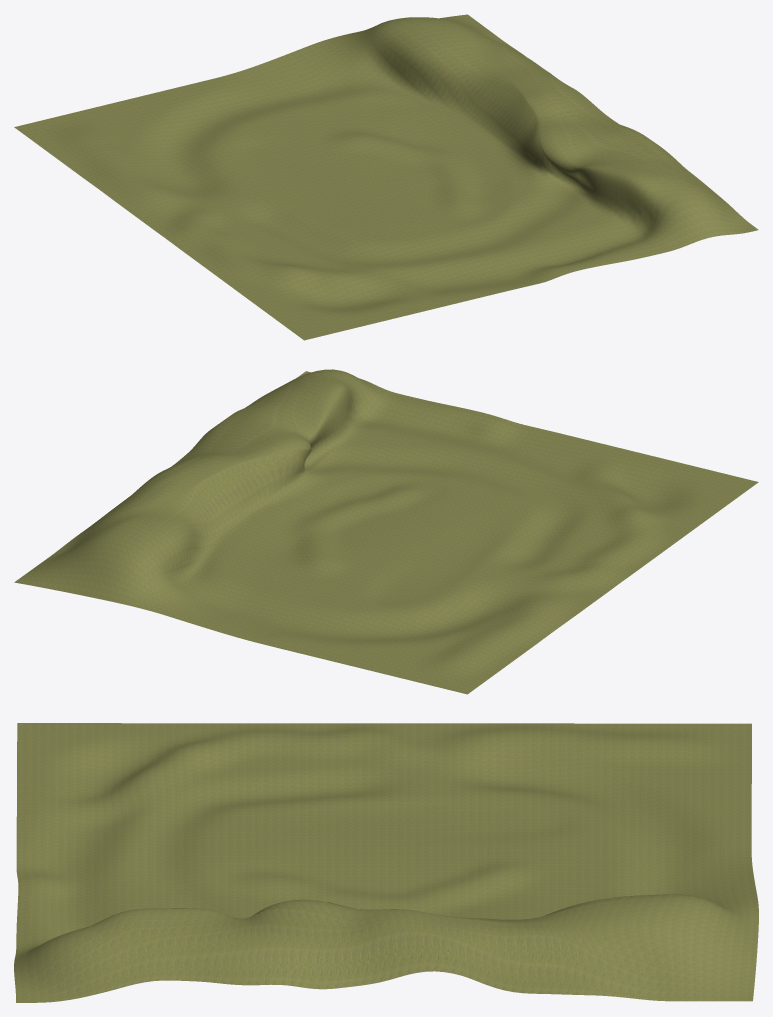
Rendered from terenM.obj.
The picture shows the model from 3 angles, top to bottom: view 1: azimuth 30°, elevation 25°; view 2: azimuth 150°, elevation 25°; view 3: azimuth 270°, elevation 25°; orthographic projection. The views are drawn at different scales.
Visible parts, largest first — view 1: Plane.002; view 2: Plane.002; view 3: Plane.002.
Part boxes in pixels (box(x1,y1,x2,y2)): Plane.002: box(14, 14, 758, 340); Plane.002: box(14, 369, 758, 694); Plane.002: box(14, 723, 758, 1002).
Size of the model in its own units: 70.45 by 6.9 by 79.13.
Materials: 1 (1 with a texture image).
